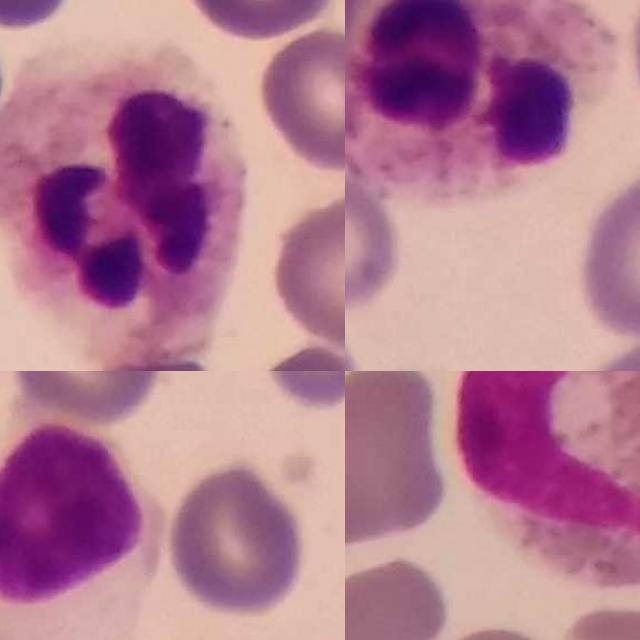Eosinophil: (454, 371, 640, 595)
Lymphocyte: (0, 420, 162, 640)
Neutrophil: (0, 36, 250, 370), (345, 0, 619, 208)
